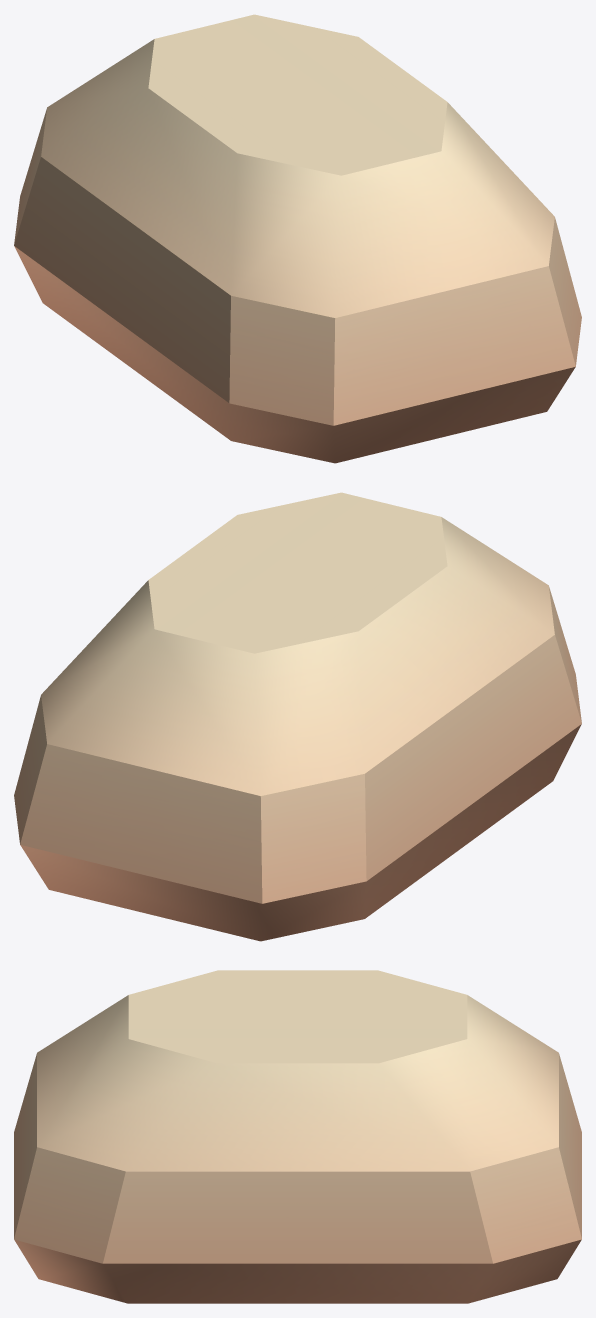
File: Piece_Clay.FBX
3 renders of one model, top to bottom at view 1: azimuth 30°, elevation 25°; view 2: azimuth 150°, elevation 25°; view 3: azimuth 270°, elevation 25°, orthographic. The views are drawn at different scales.
Parts seen in each view (by area): view 1: PieceClay; view 2: PieceClay; view 3: PieceClay.
Boxes of the visible parts, box(x1,y1,x2,y2) form: PieceClay: box(14, 14, 581, 463); PieceClay: box(14, 492, 581, 941); PieceClay: box(14, 970, 581, 1303).
Bounding box in the file's own units: 0.3881 × 0.2692 × 0.5977.
